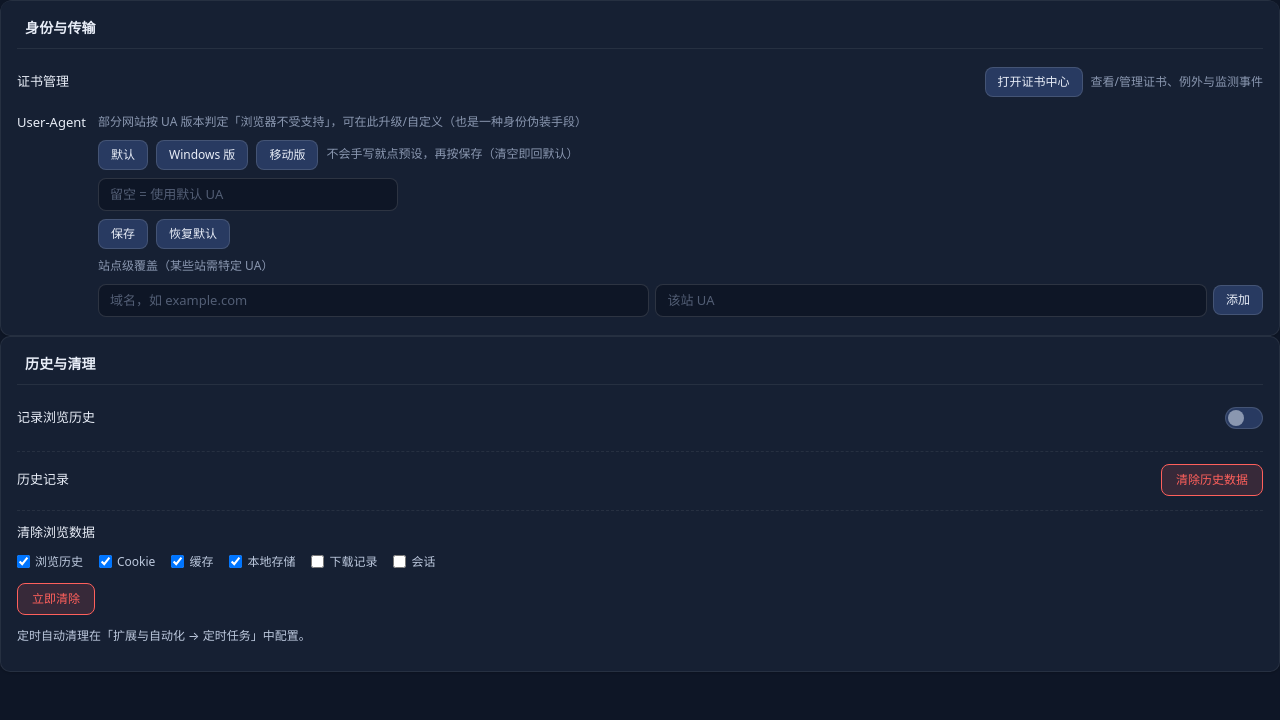
Test: PrivacyDataCard · 历史与清理 › 清除失败 → 「清除失败：…」
Click the button with class "danger-btn" showing "立即清除" at (56, 599), box [17, 583, 95, 615]
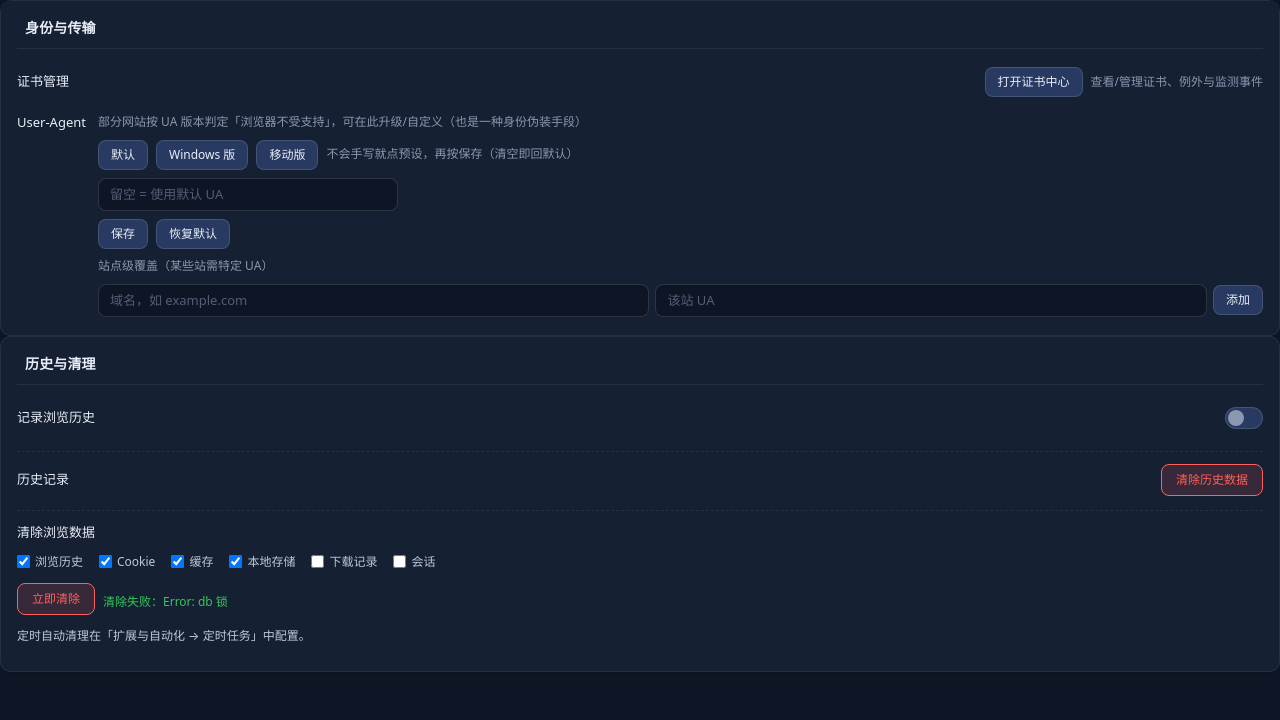
Result: the text "清除失败：" is shown at [103, 593, 228, 610]
